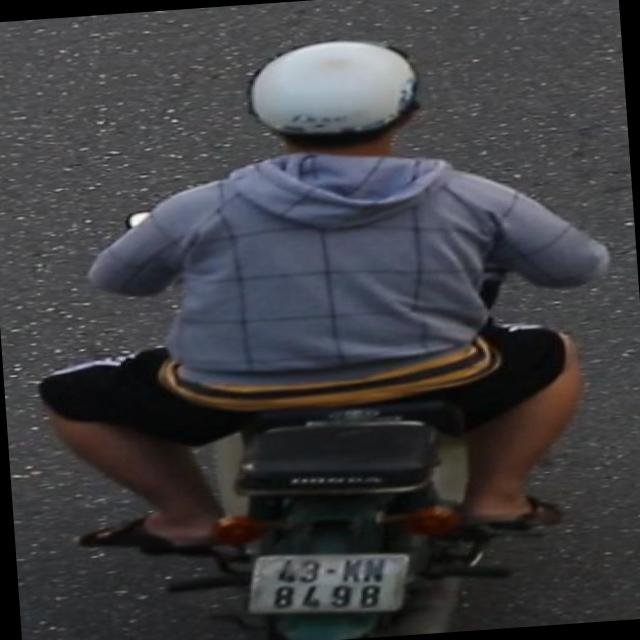LP: (240, 538, 421, 629)
helmet: (235, 29, 445, 188)
